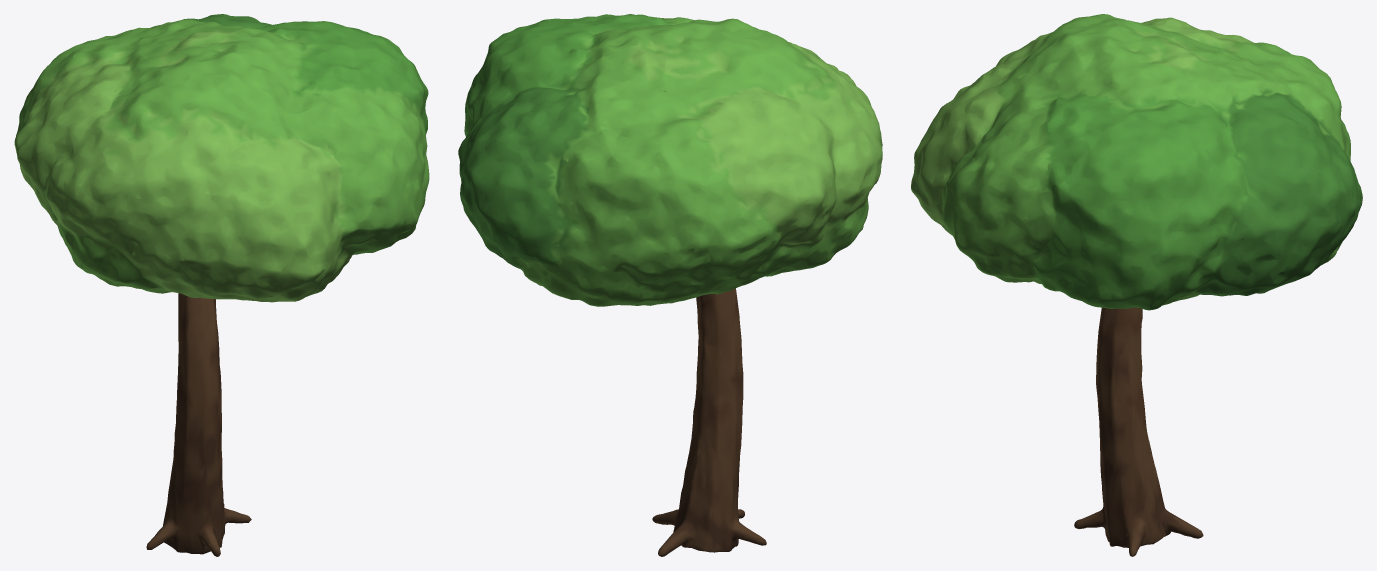
File: broadleaf_mature_irregular.glb
3 views of the same model, side by side, from view 1: azimuth 30°, elevation 25°; view 2: azimuth 150°, elevation 25°; view 3: azimuth 270°, elevation 25° (orthographic). The views are drawn at different scales.
Visible parts, largest first — view 1: broadleaf_mature_irregular_LOD0; view 2: broadleaf_mature_irregular_LOD0; view 3: broadleaf_mature_irregular_LOD0.
Part boxes in pixels (bbox=[...]): broadleaf_mature_irregular_LOD0: bbox=[14, 14, 429, 556]; broadleaf_mature_irregular_LOD0: bbox=[458, 14, 882, 556]; broadleaf_mature_irregular_LOD0: bbox=[911, 14, 1362, 556].
Size of what is drawn, in the model's own units: 3.87 by 4.9 by 3.92.
